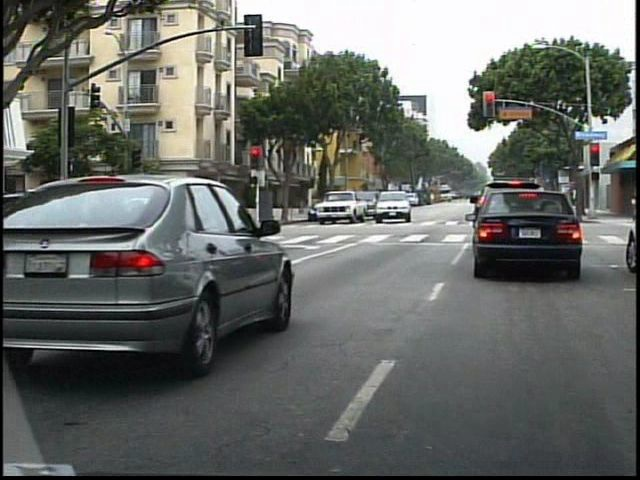person: (140, 191, 158, 236), (159, 193, 177, 234)
